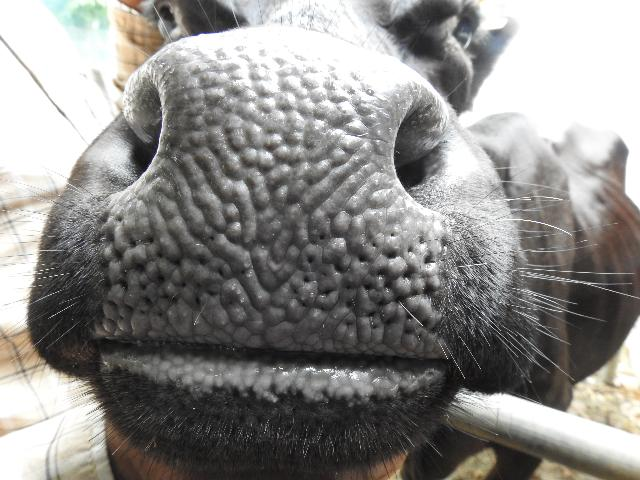Muzzle: (160, 50, 404, 360)
